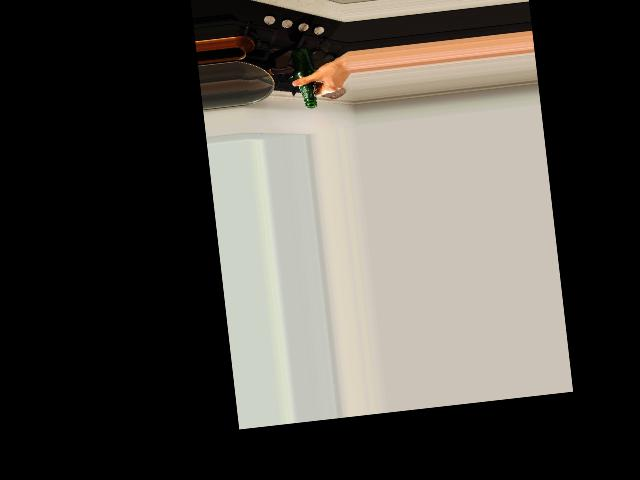beer: (290, 46, 318, 108)
